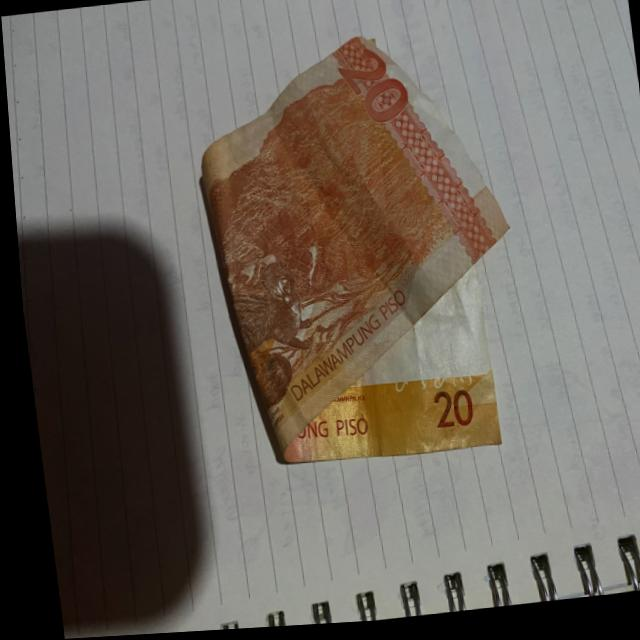see_through_mark: (375, 377, 476, 406)
value: (326, 48, 404, 138)
watermark: (392, 296, 475, 382)
